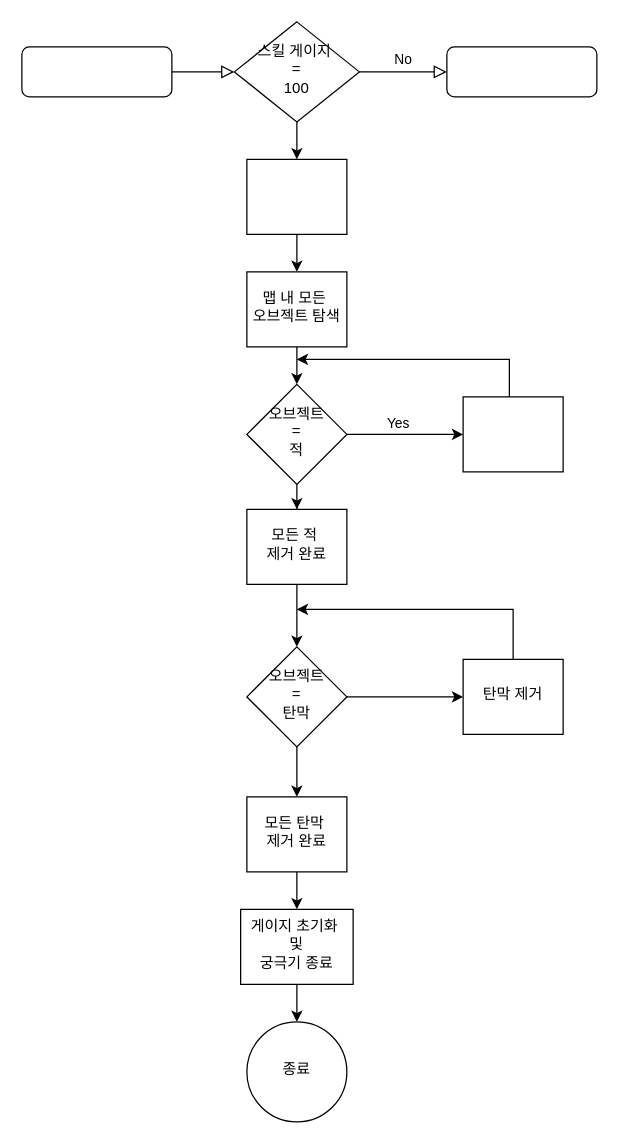
This 619x1144 diagram has some shape labels left out. The shapes that lost their labels are listed below. From the top down, each one's centre as x and y in pixels, then its label:
the point at 96,71: 스킬 키 입력
the point at 521,71: 발동 안됨
the point at 296,196: 폭발 이펙트 (맵 전역)
the point at 512,434: 적에게 고정 데미지
